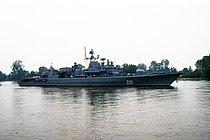MIL_Ship: (17, 48, 182, 88)
